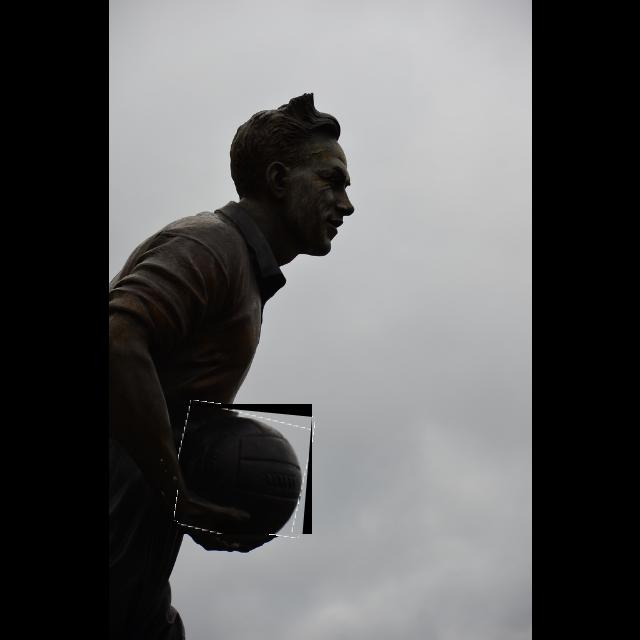Football: (178, 404, 312, 534)
